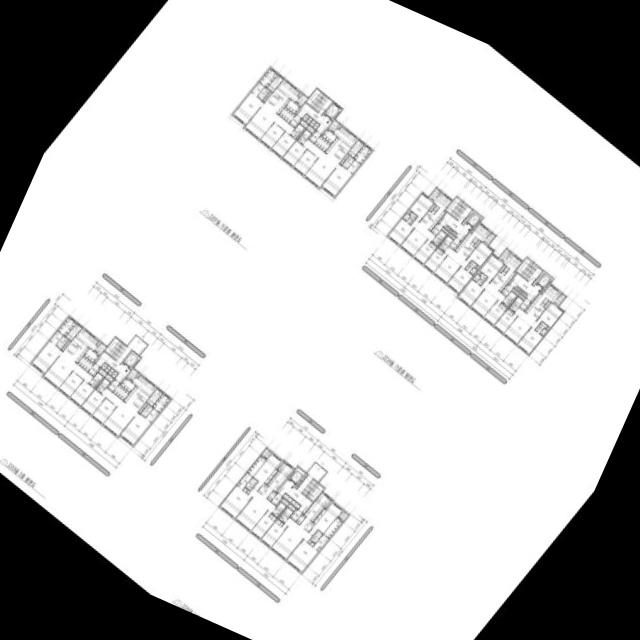background: (0, 0, 640, 640)
space_bedroom: (308, 502, 342, 535), (253, 453, 281, 491), (286, 539, 318, 572), (219, 485, 251, 518), (120, 412, 151, 445), (31, 340, 62, 373), (232, 92, 263, 124), (321, 164, 352, 196), (250, 510, 277, 539), (261, 519, 287, 547), (447, 266, 473, 293), (517, 327, 543, 354), (387, 218, 413, 245), (458, 279, 483, 306), (409, 193, 433, 221), (479, 254, 503, 282), (69, 380, 94, 406), (58, 371, 83, 397), (466, 242, 493, 266), (536, 303, 563, 327), (81, 389, 105, 415), (92, 398, 116, 424), (271, 131, 295, 157), (282, 140, 306, 166), (293, 149, 317, 175), (260, 122, 284, 148), (483, 300, 507, 325), (423, 247, 447, 272), (494, 308, 517, 333), (413, 239, 436, 264)
space_dressroom: (57, 316, 76, 336), (323, 518, 342, 538), (353, 144, 372, 164), (247, 456, 265, 476), (152, 393, 170, 412), (259, 68, 277, 87), (312, 534, 329, 550), (238, 472, 252, 490)
space_elevator: (122, 351, 140, 369), (324, 102, 341, 120), (288, 467, 305, 484), (536, 273, 552, 289), (466, 212, 482, 228)
space_elevator_hall: (277, 463, 326, 513), (95, 336, 147, 382), (439, 206, 472, 240), (509, 267, 542, 301), (296, 103, 331, 134)
space_front: (278, 107, 295, 123), (113, 384, 129, 400), (77, 355, 93, 371), (314, 135, 330, 151), (289, 508, 302, 521), (449, 237, 461, 250), (271, 493, 283, 506), (519, 298, 531, 311), (308, 130, 320, 143), (501, 284, 513, 296), (107, 379, 119, 391), (88, 364, 100, 376), (289, 115, 301, 127), (431, 223, 442, 235)
space_kitchen: (455, 223, 491, 260), (257, 461, 293, 498), (525, 284, 561, 321), (299, 492, 332, 532), (489, 252, 522, 291), (419, 191, 452, 230), (264, 79, 300, 114), (325, 126, 358, 164), (62, 328, 98, 362), (123, 375, 156, 412), (84, 348, 98, 362), (120, 378, 134, 392), (322, 129, 336, 143), (285, 100, 299, 113)
space_living_room: (43, 352, 93, 388), (244, 103, 294, 139), (235, 488, 276, 531), (271, 517, 312, 559), (101, 387, 136, 436), (303, 139, 338, 188), (503, 307, 539, 344), (470, 280, 505, 317), (400, 219, 435, 256), (433, 246, 468, 283)
space_other: (65, 323, 82, 341), (347, 139, 364, 157), (146, 388, 162, 406), (267, 74, 283, 92), (532, 271, 543, 285), (462, 210, 473, 224), (266, 490, 277, 501), (295, 513, 305, 524), (138, 402, 147, 413), (61, 340, 70, 350), (263, 91, 271, 102), (283, 493, 292, 502), (340, 154, 348, 164), (291, 500, 300, 508), (281, 498, 289, 506), (288, 503, 296, 511), (306, 125, 314, 133), (299, 120, 307, 127), (511, 288, 519, 295), (276, 461, 283, 469), (105, 374, 113, 381), (325, 501, 332, 509), (98, 369, 106, 376), (441, 227, 449, 234), (518, 293, 525, 300), (295, 481, 302, 488), (448, 232, 455, 239), (473, 240, 480, 247), (111, 371, 118, 378), (104, 365, 111, 372), (499, 265, 506, 272), (302, 114, 309, 121), (544, 301, 550, 308), (429, 204, 435, 211), (108, 368, 114, 375), (301, 474, 307, 481), (313, 122, 319, 129), (309, 119, 315, 126), (101, 363, 107, 369), (306, 117, 312, 123), (522, 292, 527, 296), (515, 286, 520, 290), (337, 124, 341, 129), (519, 289, 523, 293), (546, 326, 550, 330), (452, 231, 456, 235), (445, 225, 449, 229), (477, 270, 481, 274), (476, 265, 480, 269), (136, 373, 140, 377), (236, 482, 240, 486), (449, 228, 453, 232), (407, 209, 410, 213), (307, 540, 311, 543), (317, 547, 320, 551), (540, 289, 543, 292), (470, 228, 473, 231), (246, 490, 249, 493)
space_outdoor_room: (483, 232, 495, 245), (126, 368, 138, 381), (94, 342, 106, 355), (428, 188, 440, 200), (554, 293, 565, 306), (499, 249, 510, 261), (296, 94, 307, 106), (328, 120, 339, 132), (260, 448, 271, 459), (337, 511, 348, 521)
space_staircase: (306, 89, 332, 114), (516, 258, 538, 280), (446, 197, 467, 219), (105, 337, 126, 359), (302, 479, 323, 501)
space_toilet: (278, 507, 293, 523), (271, 502, 286, 517), (95, 378, 110, 393), (509, 296, 523, 312), (439, 235, 453, 251), (502, 291, 516, 306), (432, 230, 446, 245), (89, 372, 103, 387), (290, 124, 304, 139), (297, 129, 311, 144), (145, 408, 159, 422), (347, 159, 360, 174), (50, 331, 63, 345), (251, 82, 264, 96), (535, 321, 547, 333), (465, 260, 477, 272), (406, 211, 417, 224), (476, 272, 487, 285), (345, 155, 354, 164), (248, 477, 257, 486), (144, 404, 153, 413), (310, 534, 319, 543), (257, 91, 266, 100), (314, 530, 323, 538), (140, 409, 149, 417), (59, 336, 68, 344), (56, 340, 64, 349), (245, 482, 253, 490), (261, 87, 269, 95), (342, 160, 350, 168), (539, 328, 547, 335), (473, 274, 480, 282), (403, 213, 410, 221), (469, 267, 476, 274)
